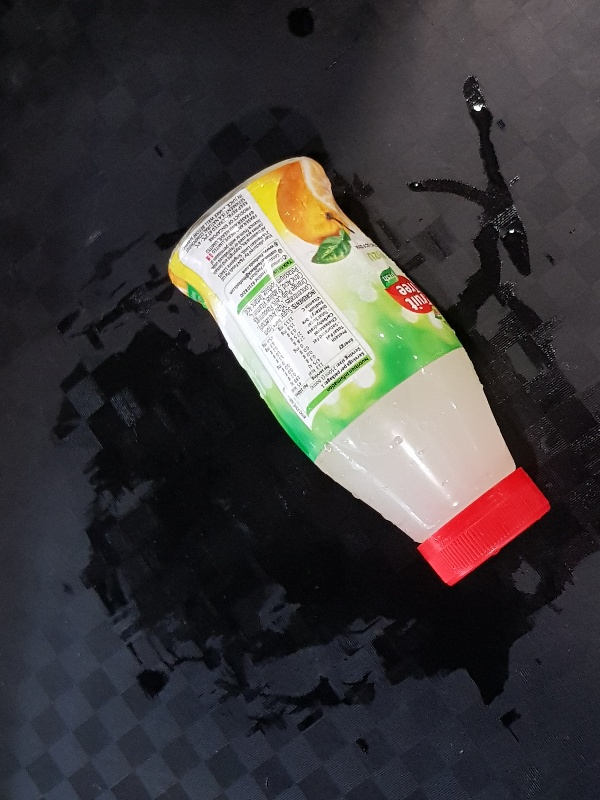Fruit Tree Yuzu Mixed Juice Drink: (162, 154, 552, 588)
